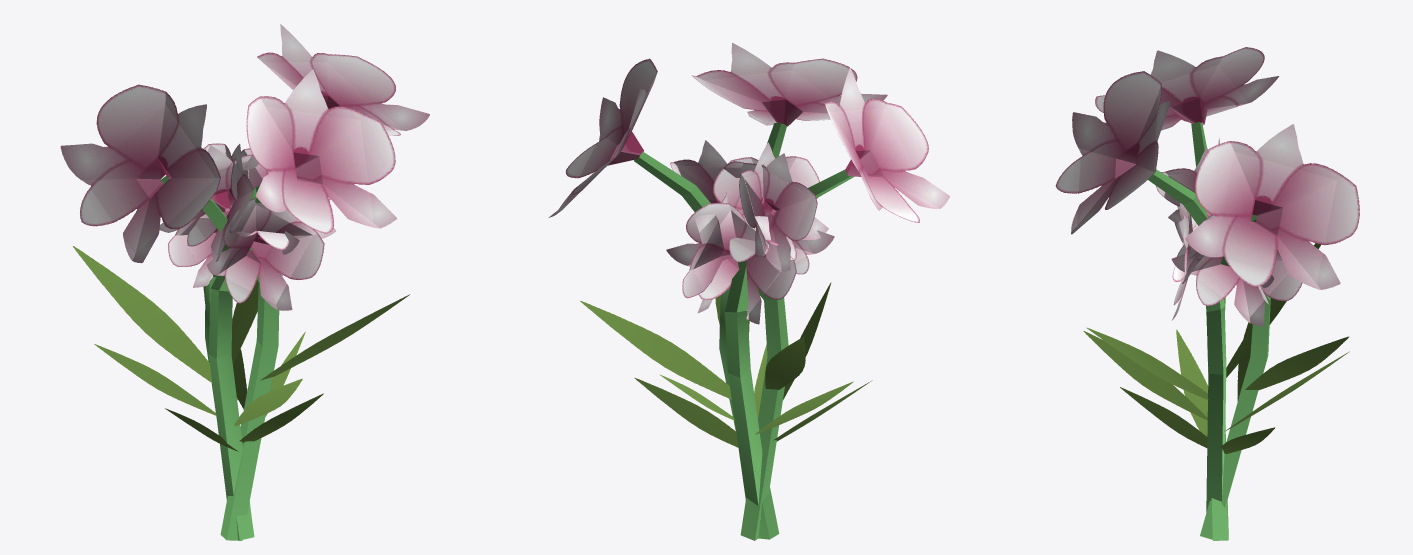
File: Butterfly Orchid Hand.fbx
The picture shows the model from 3 angles, left to right: view 1: azimuth 30°, elevation 25°; view 2: azimuth 150°, elevation 25°; view 3: azimuth 270°, elevation 25°; orthographic projection. The views are drawn at different scales.
Parts seen in each view (by area): view 1: BillyButton (2), BillyButton (1), BillyButton; view 2: BillyButton (1), BillyButton, BillyButton (2); view 3: BillyButton, BillyButton (1), BillyButton (2).
Part boxes in pixels (x1=…): BillyButton (2): x1=60, y1=84, x2=409, y2=540; BillyButton (1): x1=94, y1=69, x2=397, y2=540; BillyButton: x1=73, y1=24, x2=429, y2=515; BillyButton (1): x1=580, y1=43, x2=887, y2=520; BillyButton: x1=548, y1=58, x2=831, y2=540; BillyButton (2): x1=659, y1=68, x2=949, y2=539; BillyButton: x1=1083, y1=124, x2=1359, y2=540; BillyButton (1): x1=1055, y1=71, x2=1348, y2=539; BillyButton (2): x1=1086, y1=47, x2=1349, y2=512.
Size of the model in its own units: 1.17 by 1.44 by 0.9794.
